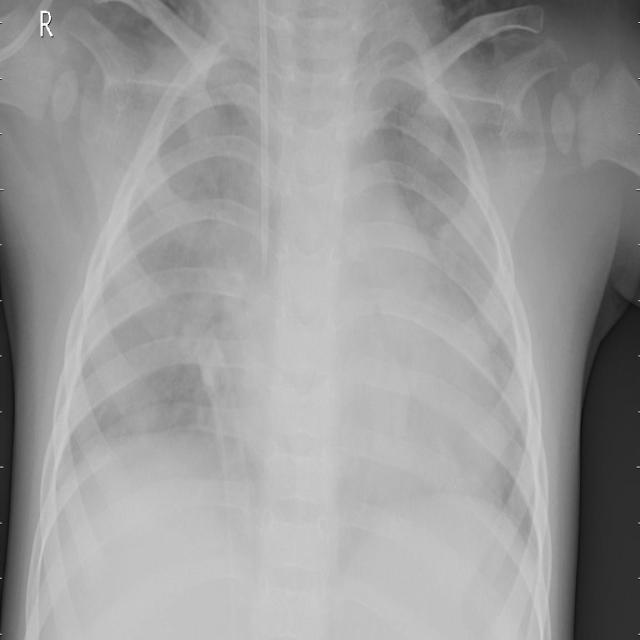high-pneumonia: (372, 55, 540, 557), (67, 67, 265, 454)
